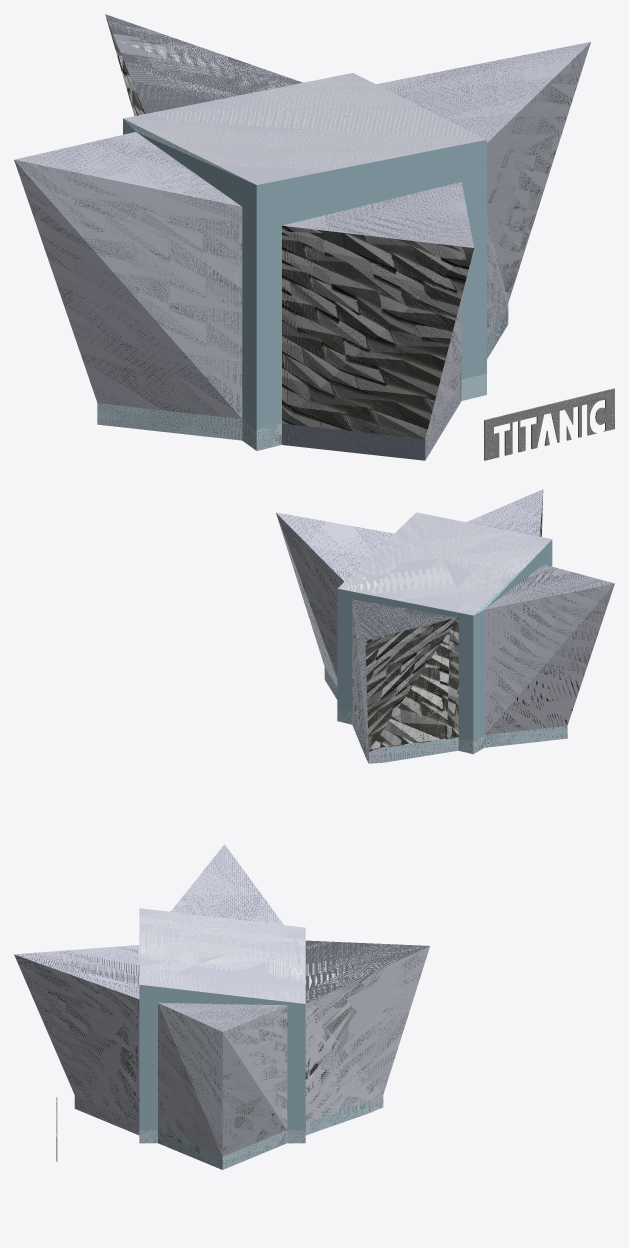
File: titanic.dae
3 renders of one model, top to bottom at view 1: azimuth 30°, elevation 25°; view 2: azimuth 150°, elevation 25°; view 3: azimuth 270°, elevation 25°, orthographic. The views are drawn at different scales.
Parts seen in each view (by area): view 1: object-012, object-014, object-003, object-016, object-007, object-015, object-022, object-013, object-020, object-008, object-037, object-023 (+3 smaller); view 2: object-012, object-016, object-027, object-003, object-007, object-022, object-008, object-020, object-015, object-013, object-025, object-004; view 3: object-007, object-016, object-025, object-018, object-003, object-020, object-015, object-013, object-004, object-022, object-024.
Part boxes in pixels (left/top/right/bottom): object-012: left=14, top=160, right=242, bottom=418; object-014: left=282, top=225, right=473, bottom=439; object-003: left=123, top=119, right=486, bottom=429; object-016: left=123, top=73, right=486, bottom=184; object-007: left=487, top=42, right=590, bottom=337; object-015: left=105, top=14, right=302, bottom=113; object-022: left=376, top=42, right=590, bottom=142; object-013: left=282, top=182, right=473, bottom=247; object-020: left=14, top=132, right=241, bottom=206; object-008: left=97, top=403, right=281, bottom=450; object-037: left=484, top=388, right=614, bottom=460; object-023: left=282, top=423, right=425, bottom=460; object-012: left=484, top=583, right=614, bottom=734; object-016: left=337, top=512, right=552, bottom=615; object-027: left=365, top=617, right=458, bottom=751; object-003: left=337, top=540, right=552, bottom=741; object-007: left=276, top=513, right=344, bottom=686; object-022: left=276, top=512, right=393, bottom=581; object-008: left=384, top=726, right=567, bottom=762; object-020: left=485, top=564, right=614, bottom=609; object-015: left=352, top=599, right=457, bottom=640; object-013: left=466, top=489, right=543, bottom=536; object-025: left=352, top=600, right=368, bottom=751; object-004: left=324, top=667, right=365, bottom=757; object-007: left=158, top=1003, right=287, bottom=1156; object-016: left=139, top=908, right=305, bottom=1003; object-025: left=305, top=946, right=429, bottom=1121; object-018: left=14, top=954, right=139, bottom=1121; object-003: left=139, top=984, right=305, bottom=1129; object-020: left=170, top=844, right=283, bottom=924; object-015: left=305, top=940, right=429, bottom=1003; object-013: left=14, top=945, right=139, bottom=998; object-004: left=139, top=1099, right=370, bottom=1169; object-022: left=158, top=1002, right=286, bottom=1031; object-024: left=74, top=1095, right=139, bottom=1135.
Bounding box in the file's own units: 138 × 164 × 53.09.
10 materials, 2 textured.
